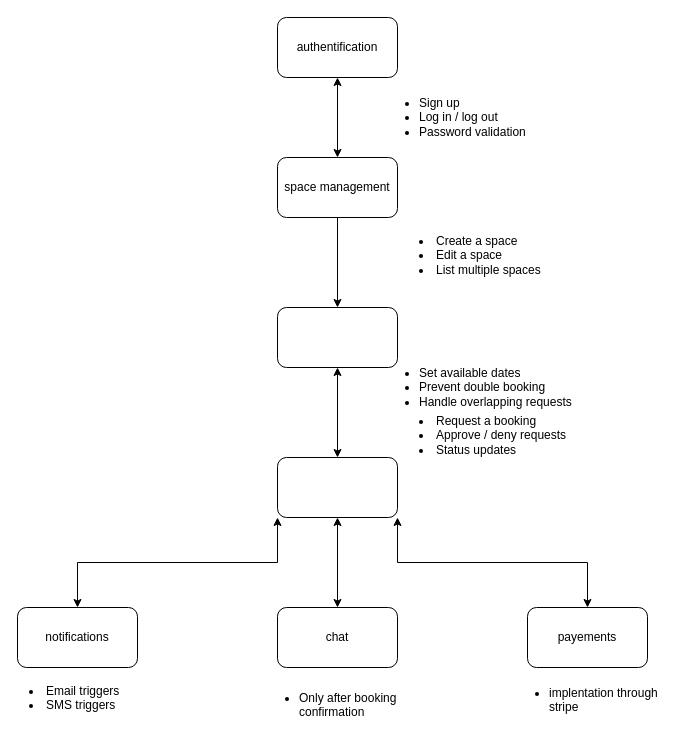
Some shapes in this 685 by 750 pixel diagram are drawn without their labels. Each missing label, with the box of its shape:
availability and booking: (276, 306, 398, 368)
requests: (276, 456, 398, 518)
